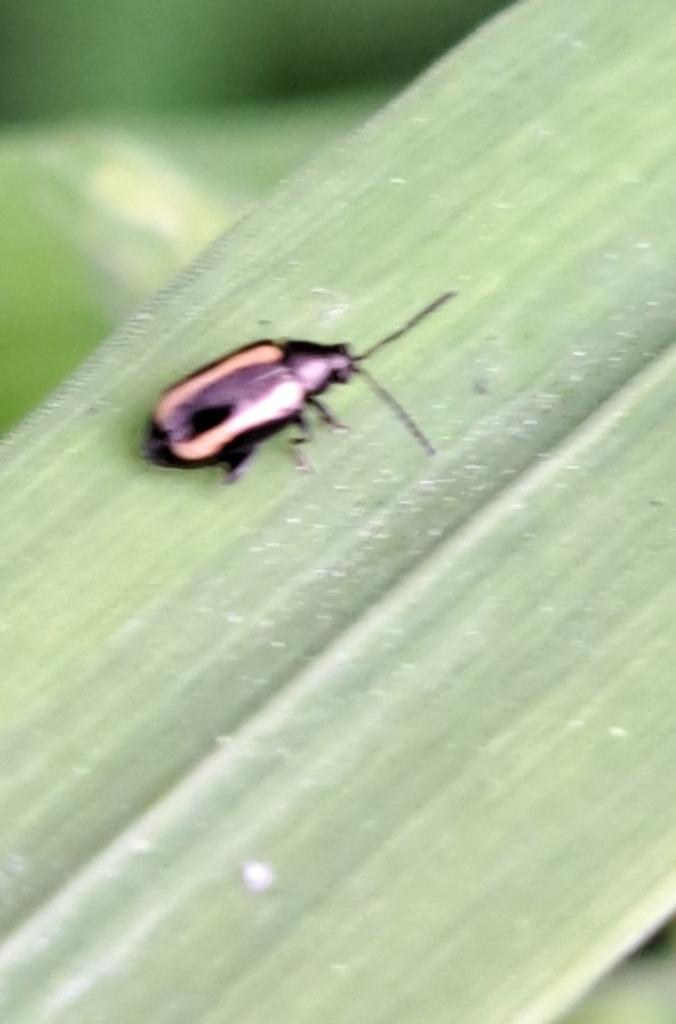flea_beetle: (109, 258, 488, 528)
